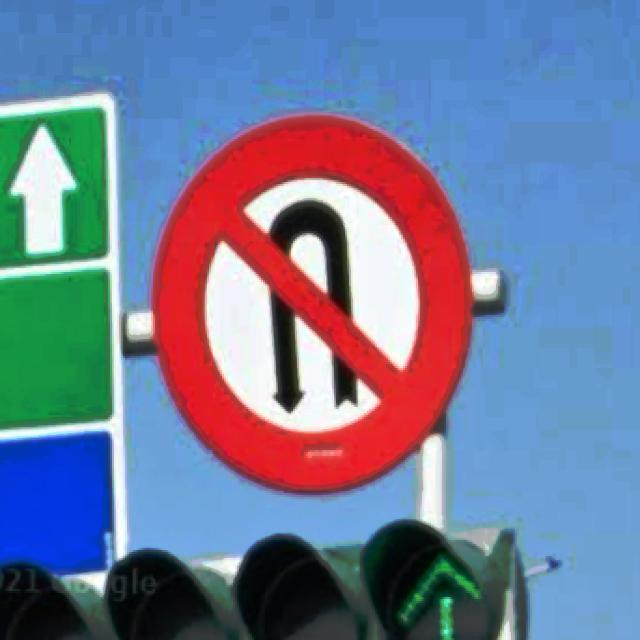nouturn: (149, 108, 474, 495)
